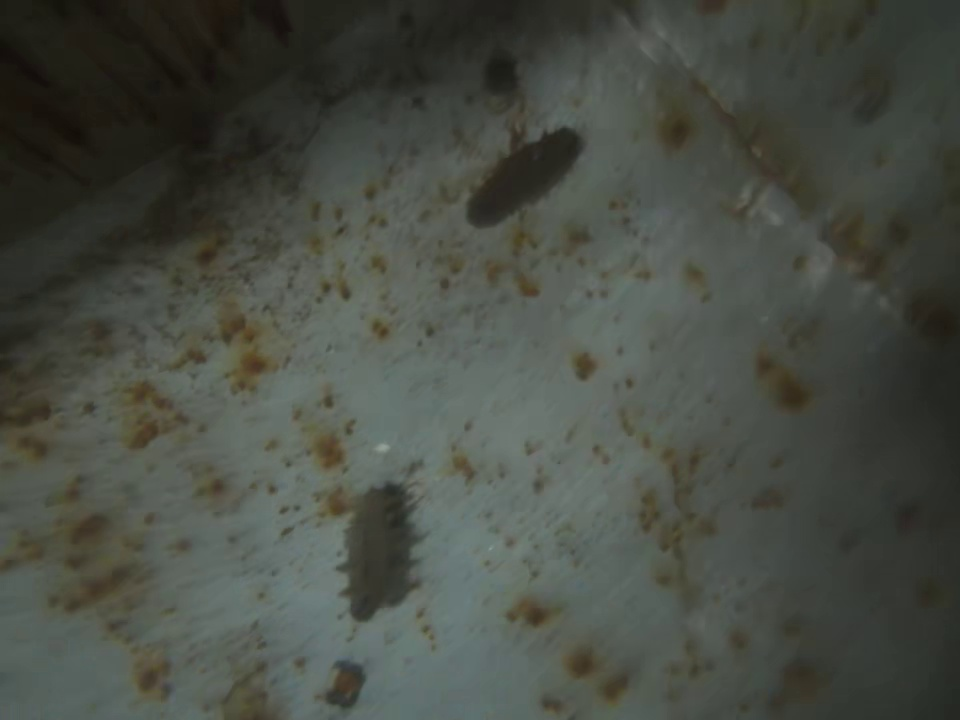seacucumber: (463, 126, 588, 230), (341, 485, 404, 621)
